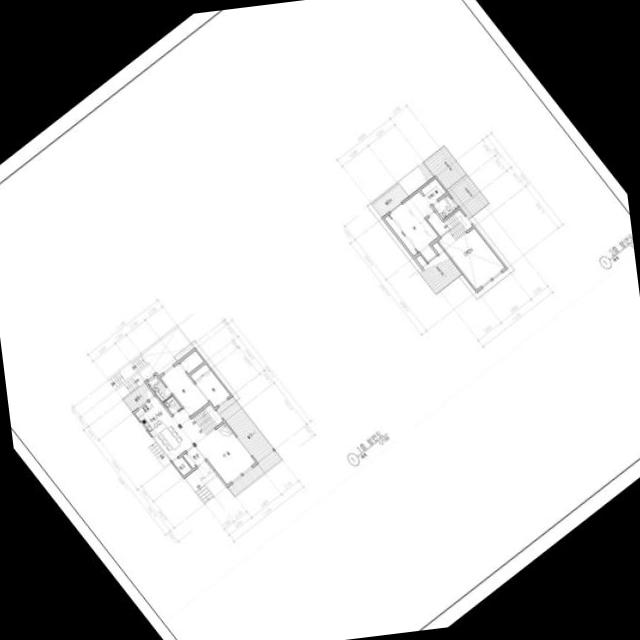background: (0, 0, 640, 640)
space_balconi: (372, 183, 408, 216), (123, 381, 154, 411)
space_bedroom: (389, 190, 438, 261), (160, 363, 208, 415), (190, 363, 230, 406), (384, 214, 418, 255)
space_dressroom: (420, 178, 446, 203), (180, 350, 204, 373)
space_front: (186, 446, 205, 465), (183, 453, 196, 468)
space_kitchen: (135, 396, 193, 460)
space_living_room: (172, 408, 255, 484)
space_other: (438, 227, 505, 289), (184, 461, 217, 491), (427, 212, 450, 236), (173, 456, 192, 475)
space_staircase: (110, 354, 148, 387), (191, 404, 223, 435), (444, 209, 472, 240), (117, 373, 144, 397), (148, 441, 171, 467), (195, 484, 214, 504)
space_toilet: (147, 374, 171, 401), (433, 194, 458, 218), (163, 395, 181, 414)
